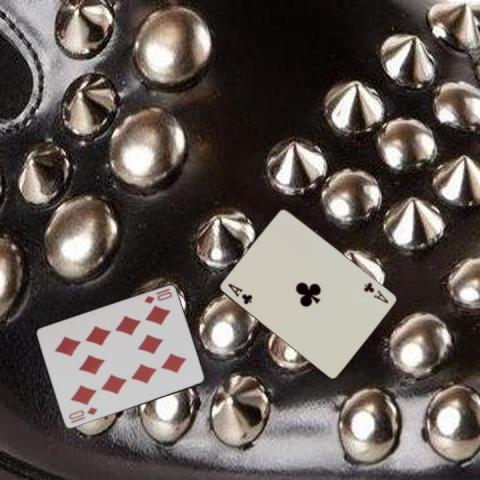10d: (65, 405, 99, 421), (142, 289, 174, 305)
Ac: (361, 279, 390, 305), (225, 280, 254, 305)
